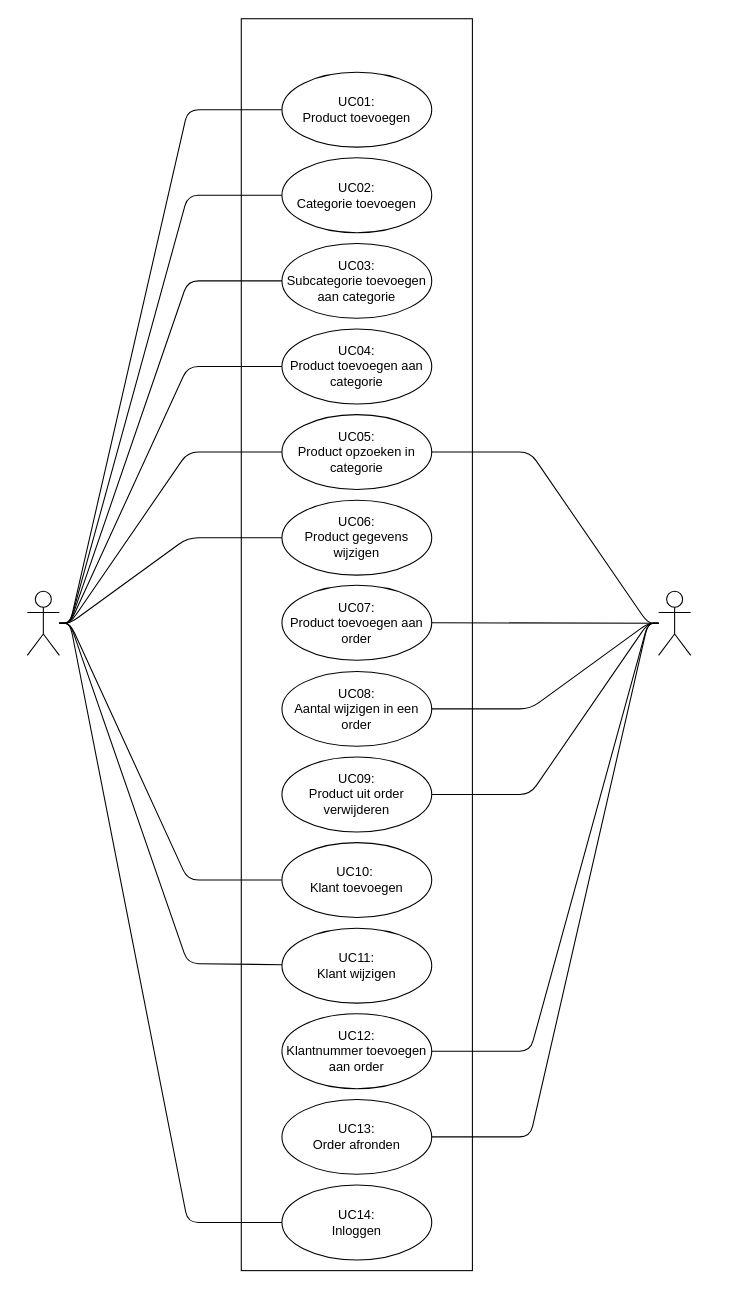
Some shapes in this 729 by 1289 pixel diagram are drawn without their labels. The box of each missing label's shape, as (x1, y1, x2, y2) in pixels:
Kassa medewerker: (658, 590, 691, 655)
Manager: (26, 590, 59, 655)
Skippy kassasysteem: (240, 18, 472, 1271)
